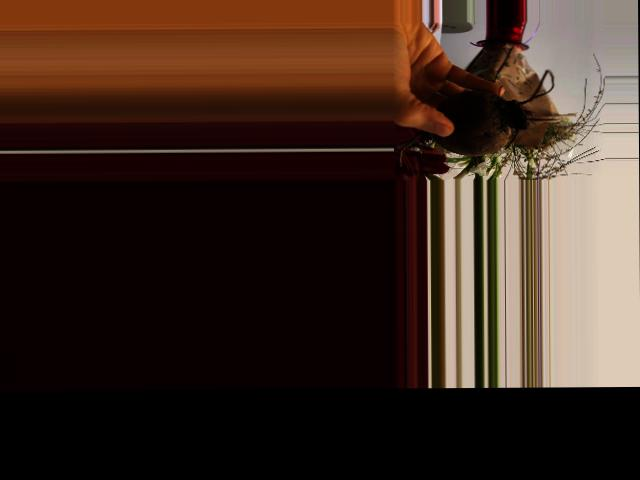beet: (399, 69, 555, 166)
